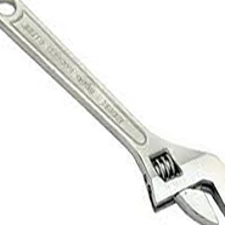wrench: (2, 1, 225, 225)
